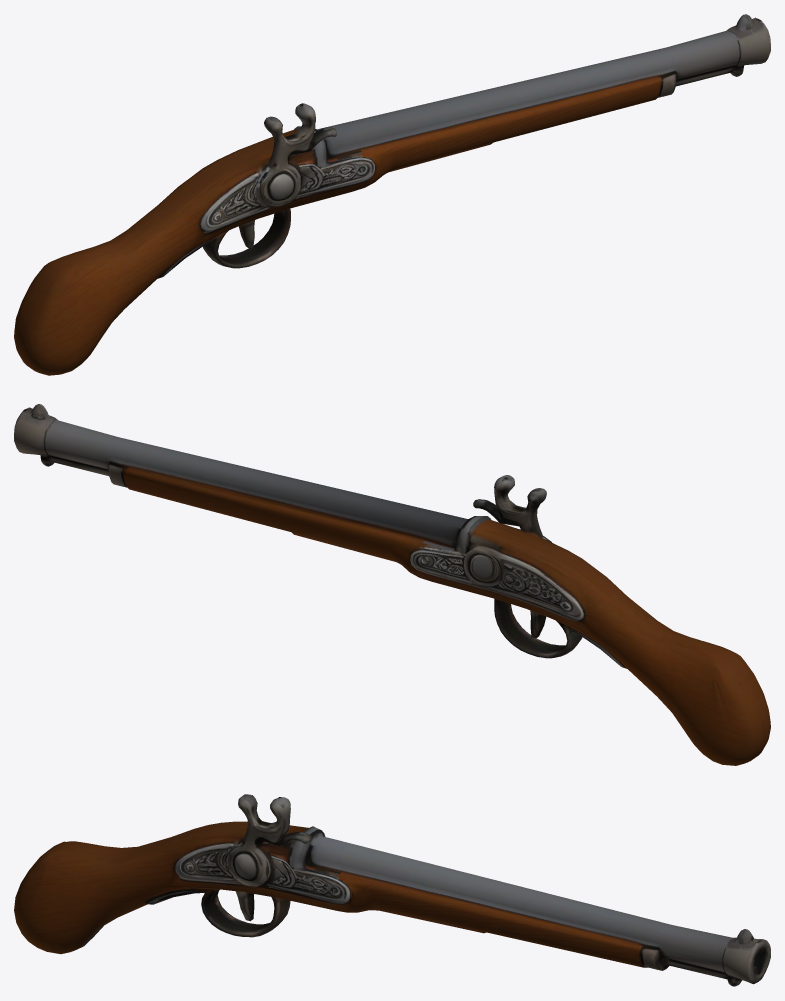
File: musket_rifle_11b81839_v4.glb
3 renders of one model, top to bottom at view 1: azimuth 30°, elevation 25°; view 2: azimuth 150°, elevation 25°; view 3: azimuth 330°, elevation 25°, orthographic.
Visible parts, largest first — view 1: mesh_input; view 2: mesh_input; view 3: mesh_input.
Part boxes in pixels (left/top/right/bottom): mesh_input: left=14, top=14, right=770, bottom=375; mesh_input: left=14, top=404, right=770, bottom=765; mesh_input: left=14, top=794, right=770, bottom=986.
Bounding box in the file's own units: 1.9 × 0.5351 × 0.1562.
1 material, 1 textured.
